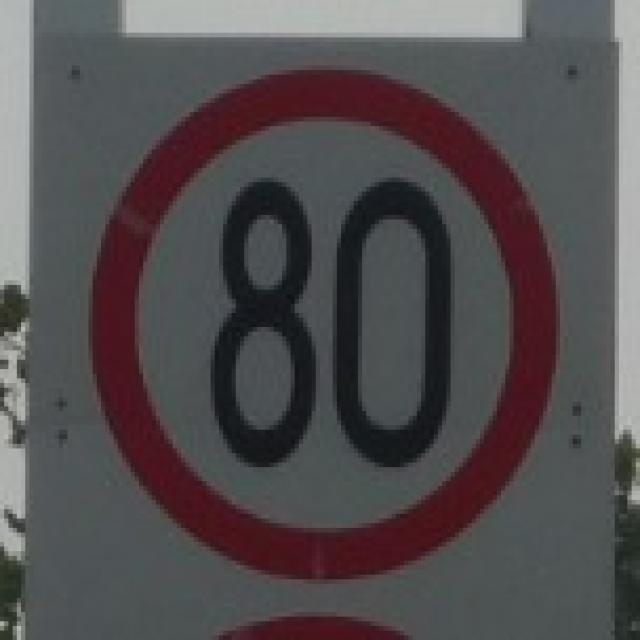Speed Limit -80-: (208, 169, 459, 468)
